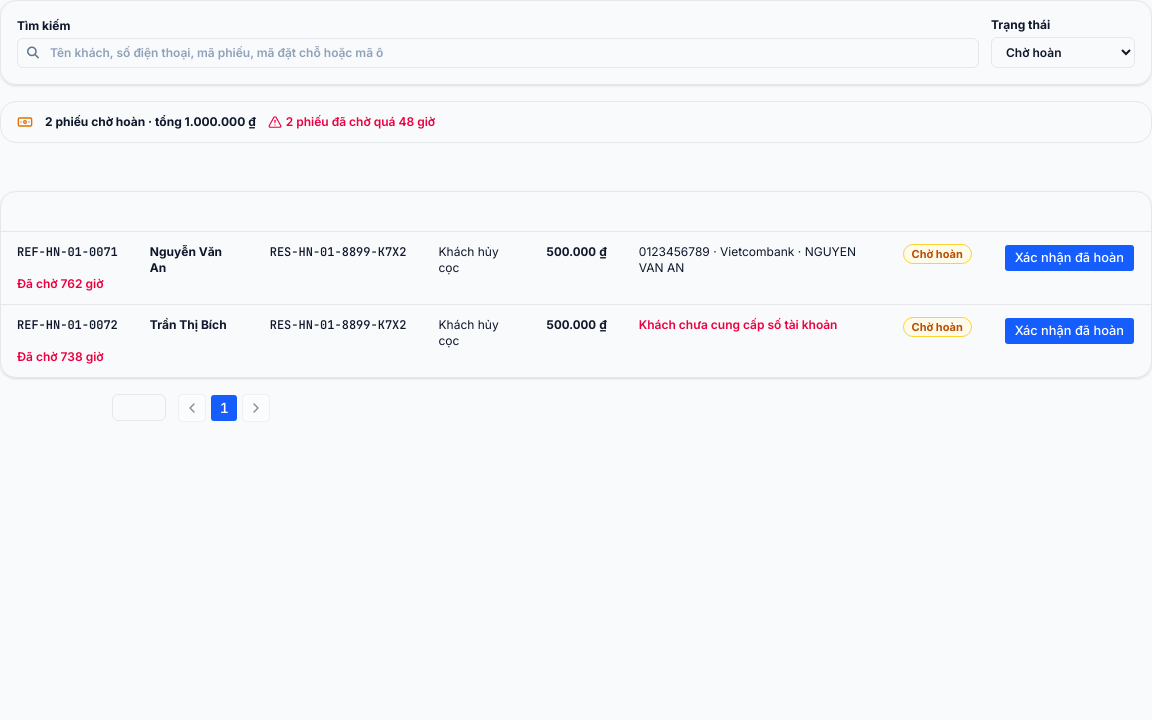
Test case: RefundsPanel: Manager hoàn tiền cho khách (US-26) › xác nhận: mở popup, nhập biên lai → gọi API của Manager với đúng phiếu, đóng popup và tải lại
Check: the text "Nguyễn Văn An" is shown, box top-left (150, 244), bottom-right (222, 275)
Step 1. Click the button with aria-label "Xác nhận đã hoàn tiền phiếu REF-HN-01-0071" → x=1069, y=258, box top-left (1004, 244), bottom-right (1135, 272)
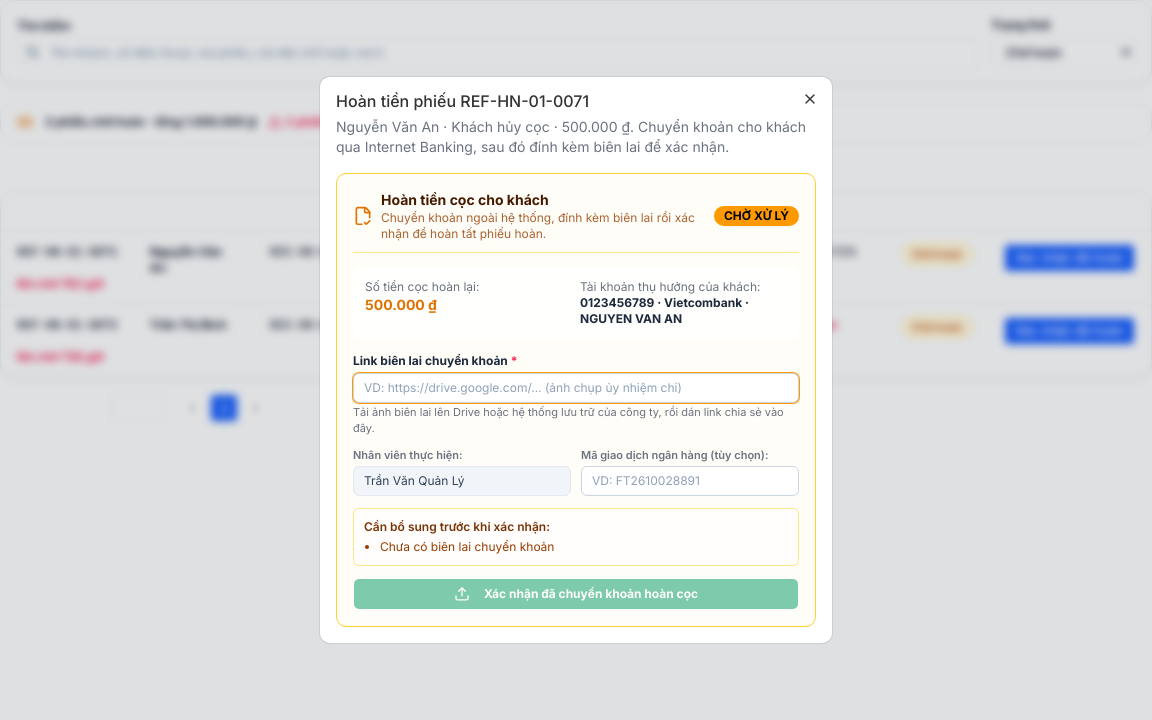
Step 2. Type "https://drive.google.com/bien-lai-71.png" into the field labelled "Link biên lai chuyển khoản *" → x=576, y=388, box top-left (353, 373), bottom-right (799, 403)
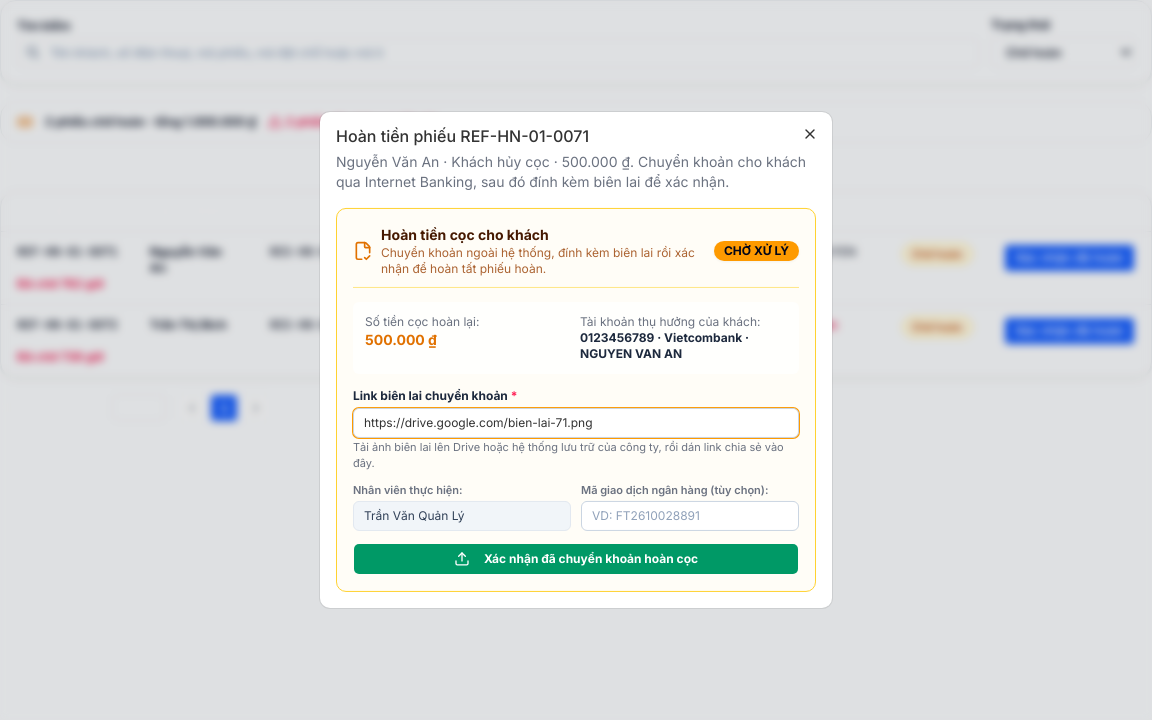
Step 3. Click the button "Xác nhận đã chuyển khoản hoàn cọc" → x=576, y=559, box top-left (353, 543), bottom-right (799, 575)
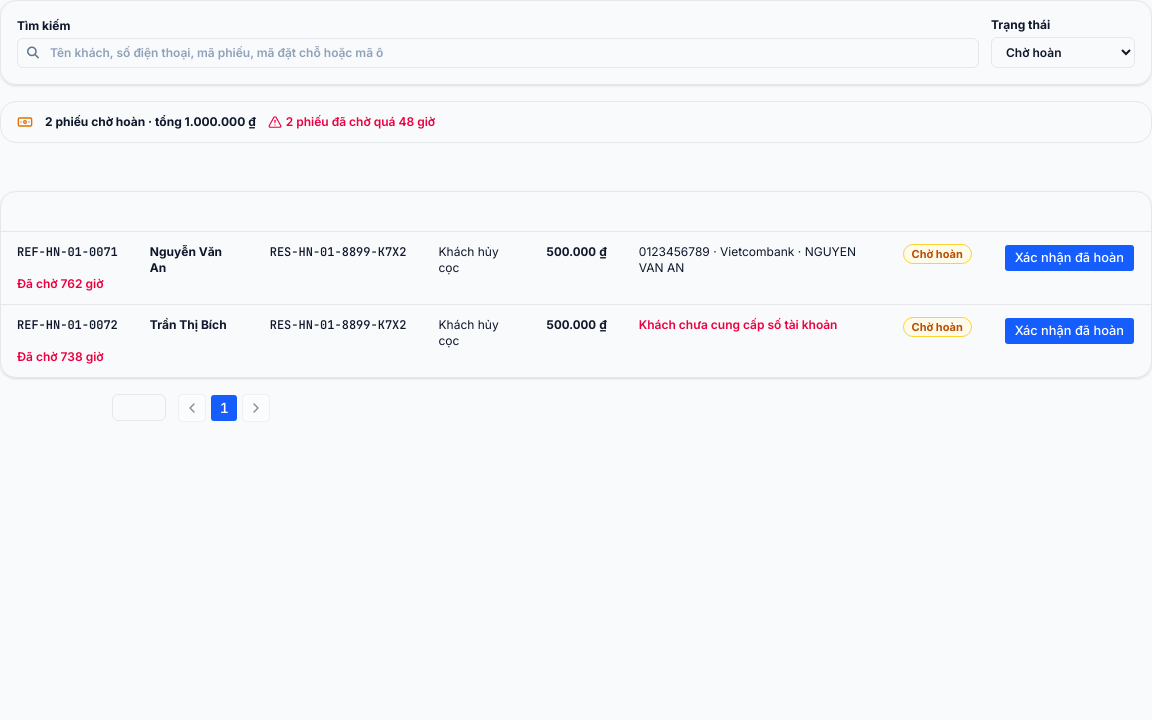
Check: the dialog is gone
